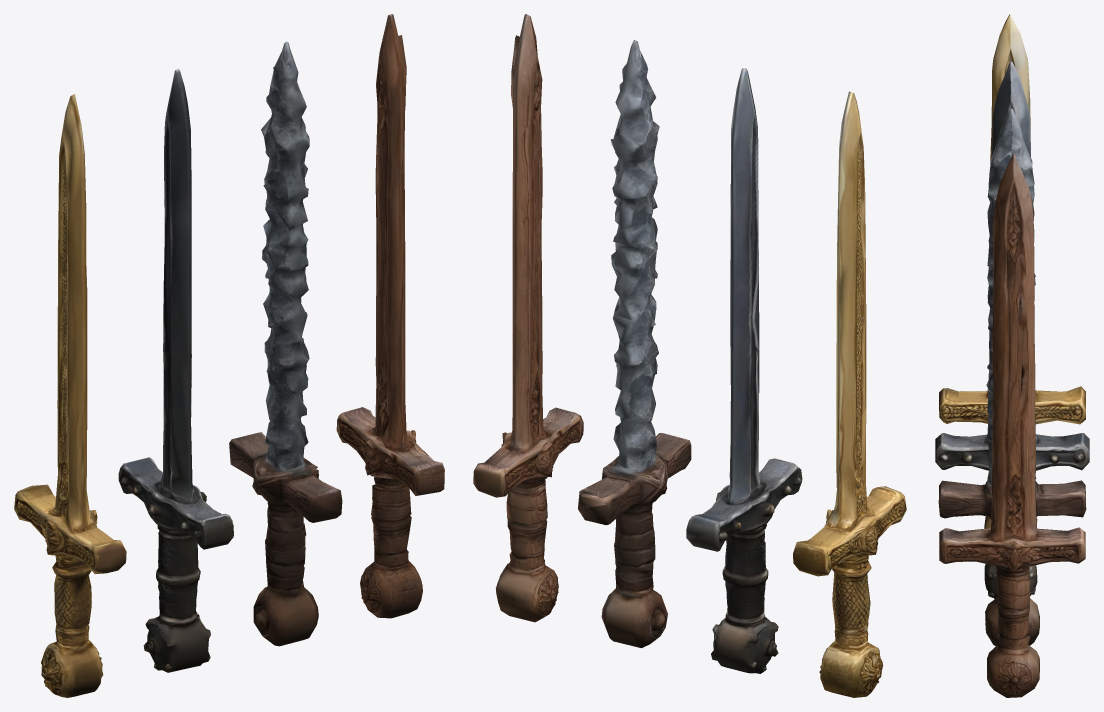
Rendered from weapons_swords_tiers_a.glb.
The picture shows the model from 3 angles, left to right: view 1: azimuth 30°, elevation 25°; view 2: azimuth 150°, elevation 25°; view 3: azimuth 270°, elevation 25°; orthographic projection. The views are drawn at different scales.
Visible parts, largest first — view 1: sword_tier_stone, sword_tier_wood, sword_tier_iron, sword_tier_gold; view 2: sword_tier_stone, sword_tier_wood, sword_tier_iron, sword_tier_gold; view 3: sword_tier_wood, sword_tier_stone, sword_tier_iron, sword_tier_gold.
Boxes of the visible parts, box(x1,y1,x2,y2) form: sword_tier_stone: box(229, 41, 342, 646); sword_tier_wood: box(336, 14, 444, 618); sword_tier_iron: box(118, 69, 233, 672); sword_tier_gold: box(14, 94, 126, 697); sword_tier_stone: box(578, 40, 691, 648); sword_tier_wood: box(473, 14, 583, 622); sword_tier_iron: box(686, 68, 802, 673); sword_tier_gold: box(793, 91, 906, 697); sword_tier_wood: box(939, 154, 1085, 697); sword_tier_stone: box(938, 108, 1086, 645); sword_tier_iron: box(935, 61, 1089, 598); sword_tier_gold: box(939, 14, 1085, 528).
Size of the model in its own units: 0.4576 by 0.6985 by 0.1817.
Materials: 1 (1 with a texture image).
